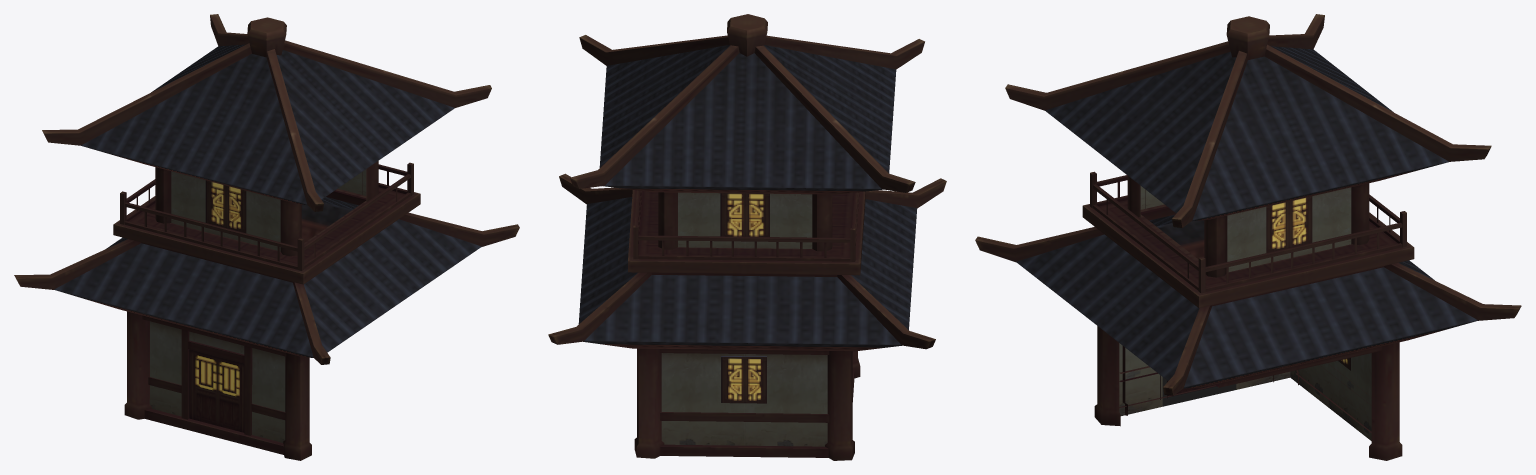
The model's file is Area_03_9.fbx.
3 views of the same model, side by side, from view 1: azimuth 30°, elevation 25°; view 2: azimuth 150°, elevation 25°; view 3: azimuth 270°, elevation 25° (orthographic). The views are drawn at different scales.
Visible parts, largest first — view 1: Area_03_9; view 2: Area_03_9; view 3: Area_03_9.
Boxes of the visible parts, x1=… form: Area_03_9: x1=14, y1=14, x2=519, y2=460; Area_03_9: x1=548, y1=14, x2=946, y2=460; Area_03_9: x1=975, y1=14, x2=1521, y2=460.
Bounding box in the file's own units: 1856 × 1541 × 1854.
